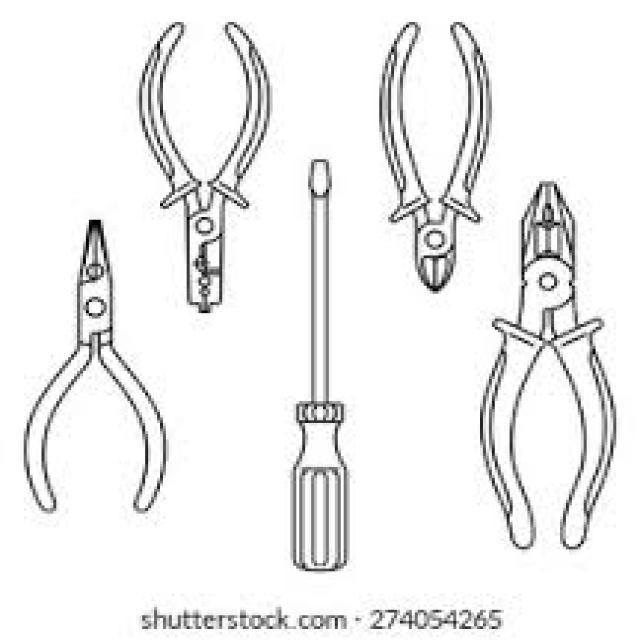Screwdriver: (291, 159, 348, 571)
